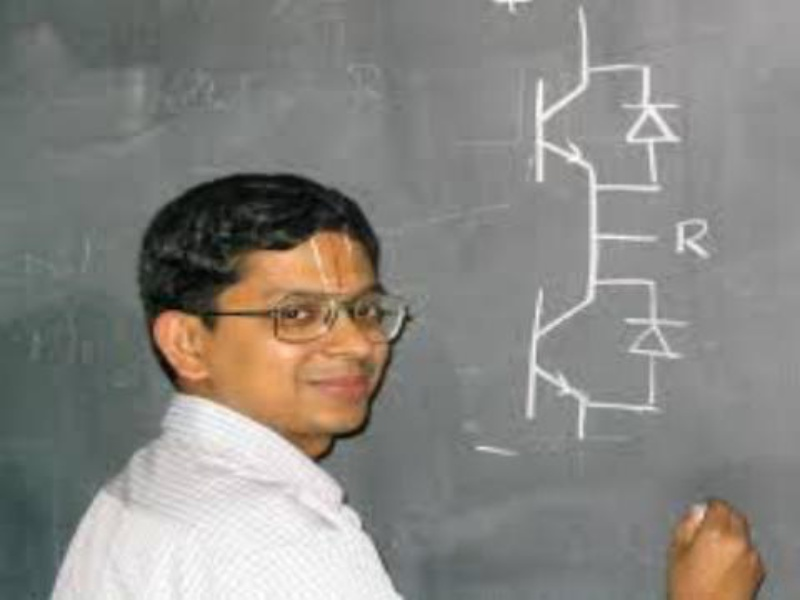TsisyArotava: (140, 168, 431, 467)
